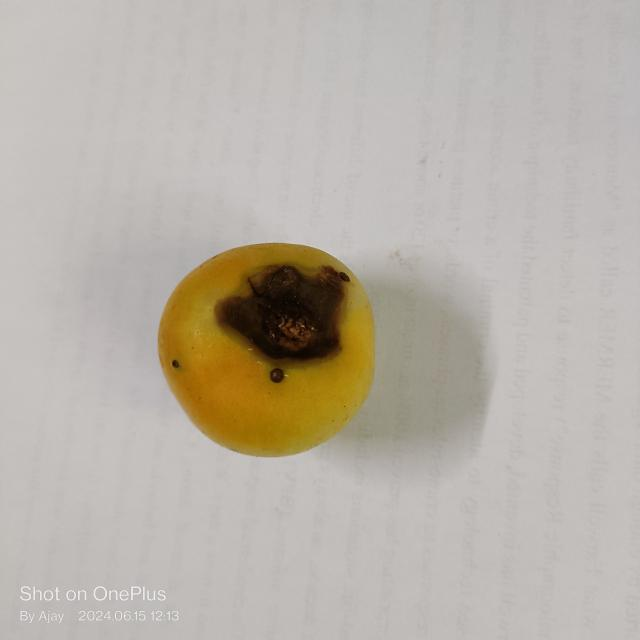Anthrocnose: (217, 259, 354, 380)
